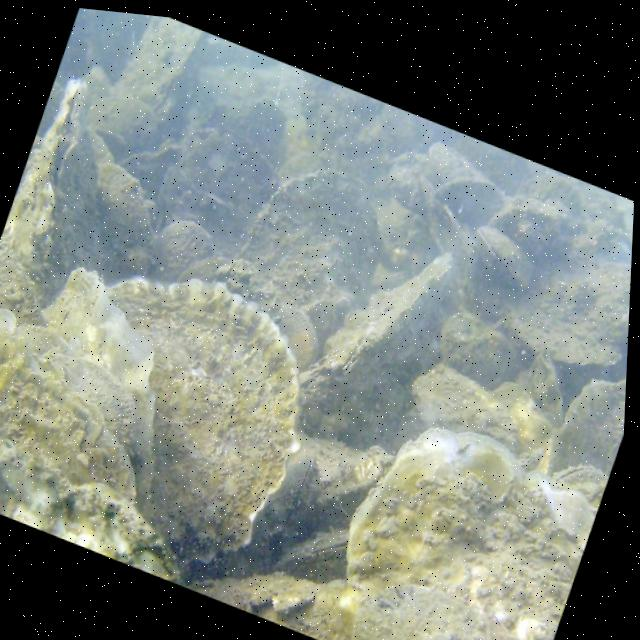Oyster-Closed: (153, 126, 280, 261), (276, 531, 347, 573), (552, 465, 608, 487)
Oyster-Indeterminate: (103, 280, 301, 566), (341, 429, 595, 640), (299, 253, 457, 438), (0, 438, 179, 586), (235, 171, 381, 348), (0, 311, 133, 502), (12, 79, 102, 311), (502, 262, 631, 365), (113, 15, 202, 144), (414, 366, 518, 457), (44, 352, 134, 449), (548, 380, 626, 478), (94, 162, 154, 286), (351, 585, 477, 640), (439, 312, 521, 392), (265, 458, 323, 536), (148, 222, 213, 284), (492, 206, 564, 261), (474, 227, 533, 291), (432, 178, 503, 225), (521, 348, 563, 426), (241, 101, 288, 158), (516, 175, 581, 216), (427, 142, 490, 182), (17, 326, 75, 356), (516, 620, 556, 640)
Oyster-Open: (91, 128, 133, 164)
